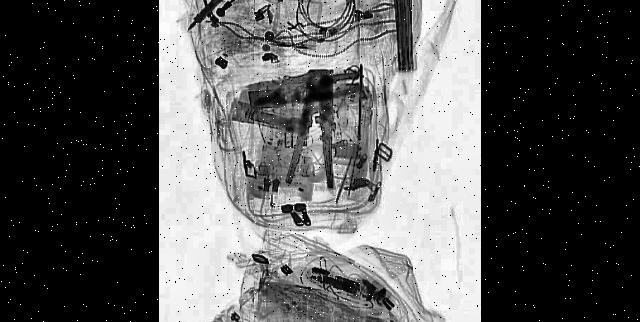Pliers: (286, 61, 338, 196)
